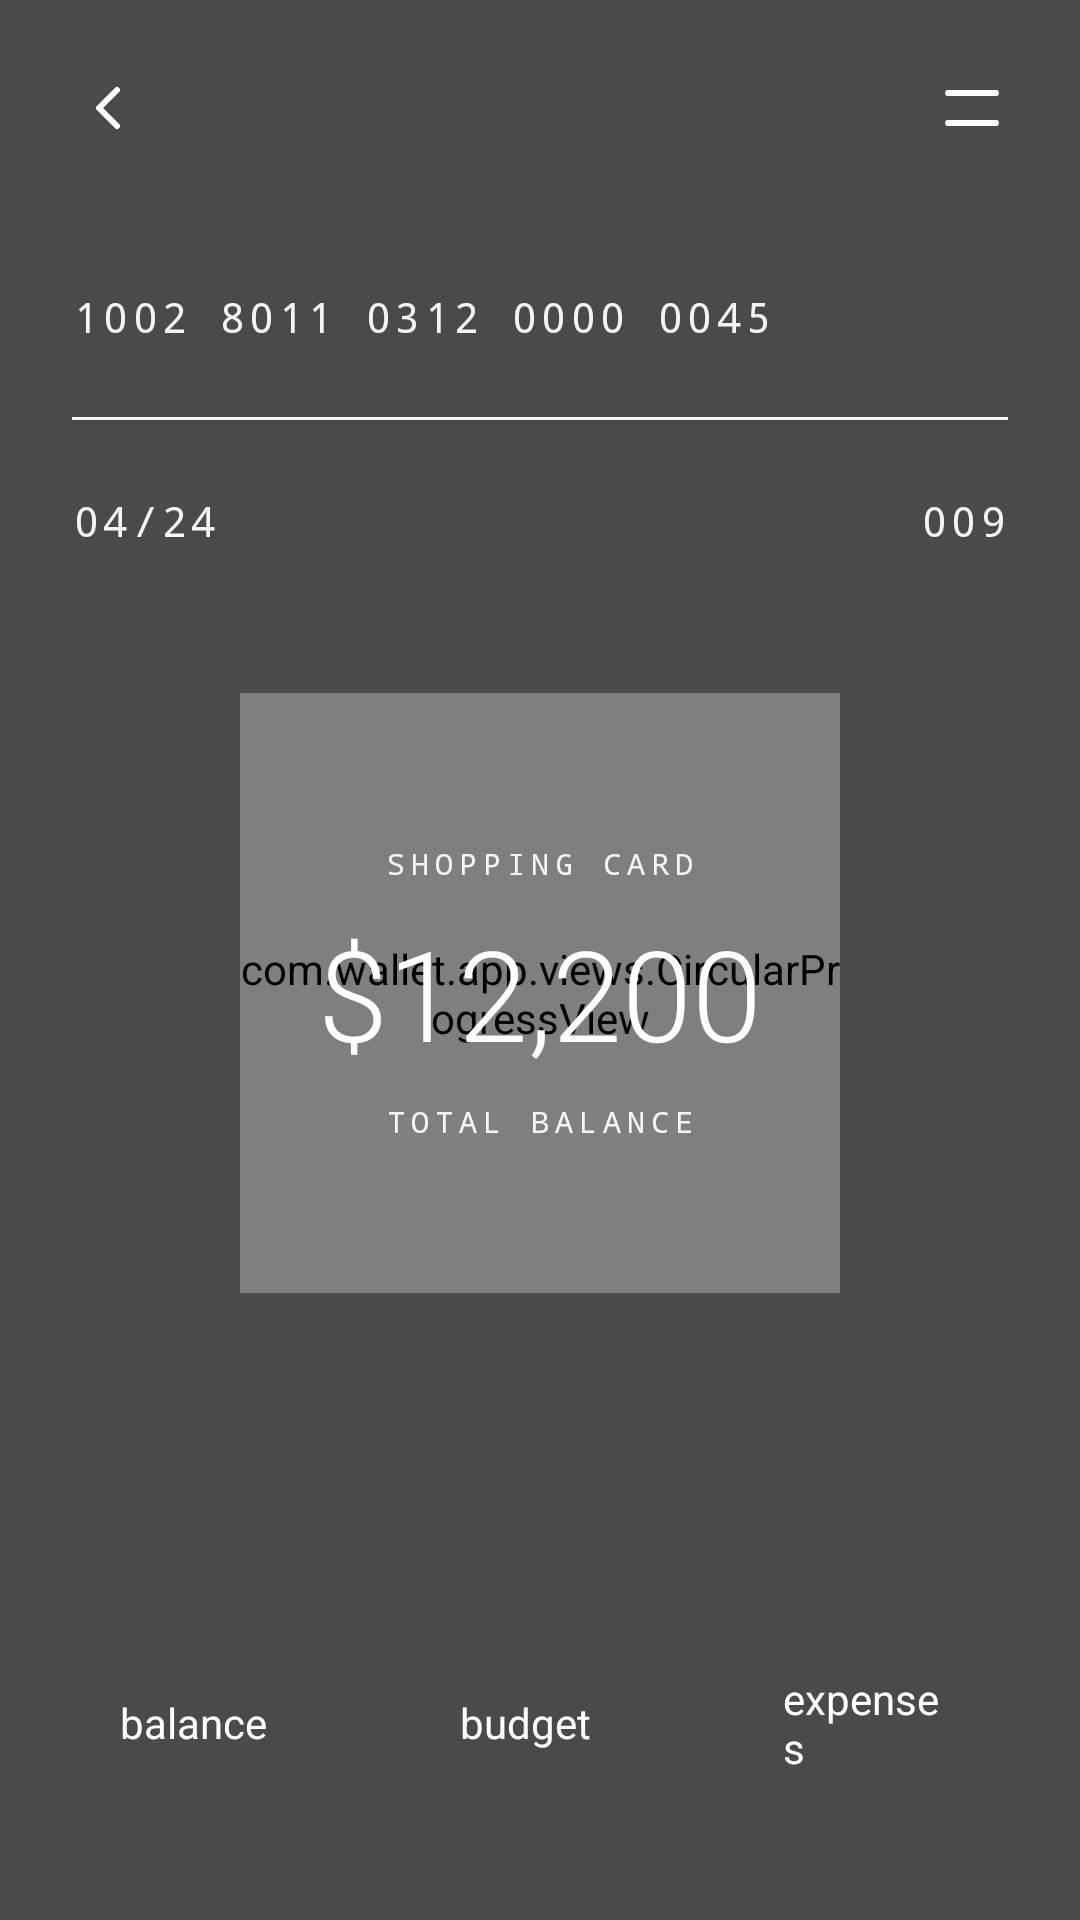

Icon click points for this 1080w x 1920h phone screenshot, format (x=x, y=y):
Back: (x=108, y=108)
Menu: (x=972, y=108)
